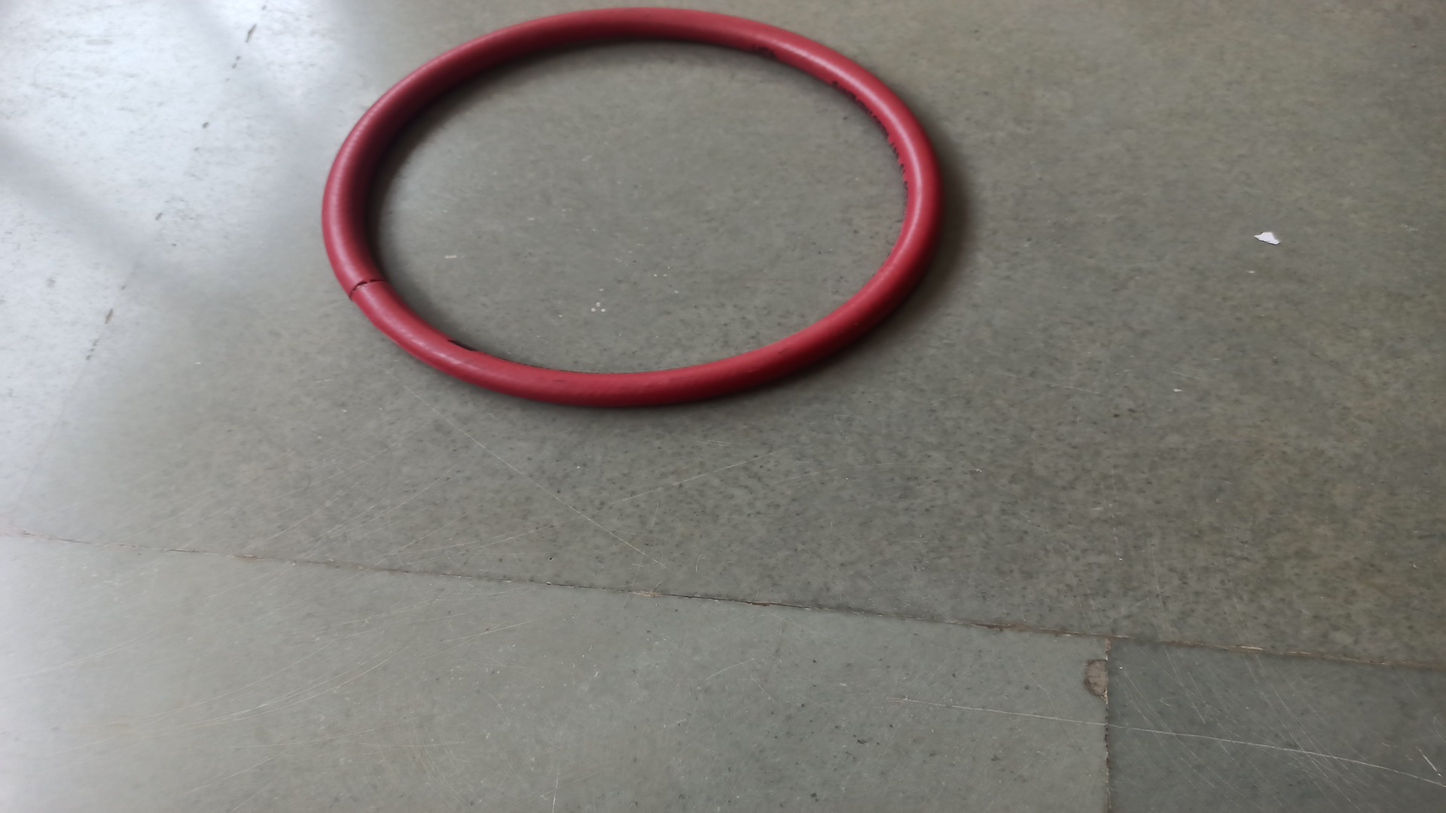Red ring: (323, 10, 944, 403)
